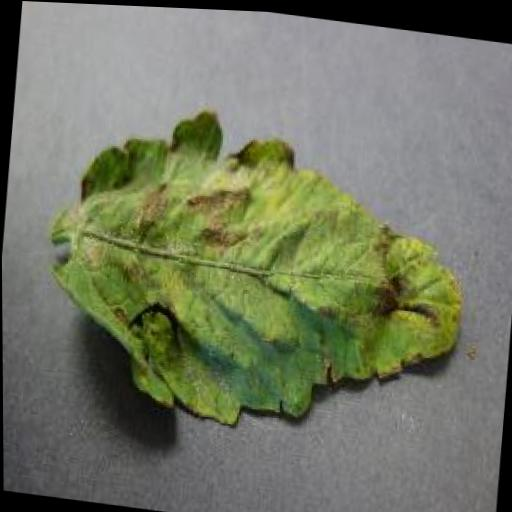Bacterial Spot: (22, 80, 489, 468)
